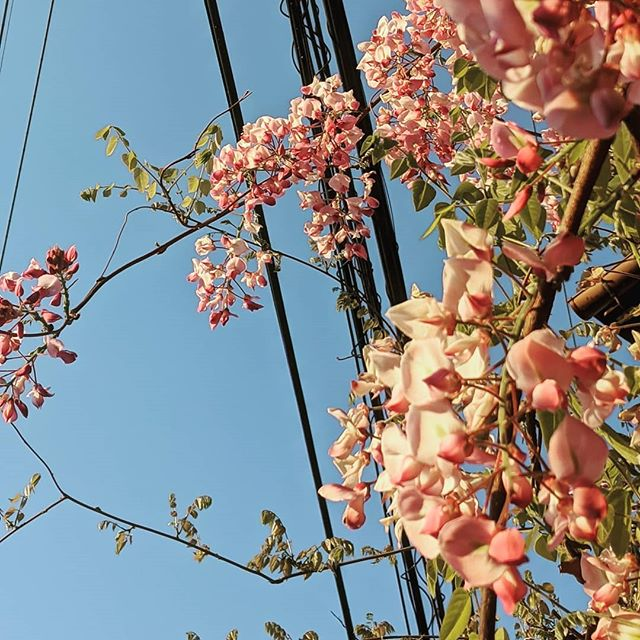flowers: (131, 15, 640, 640)
